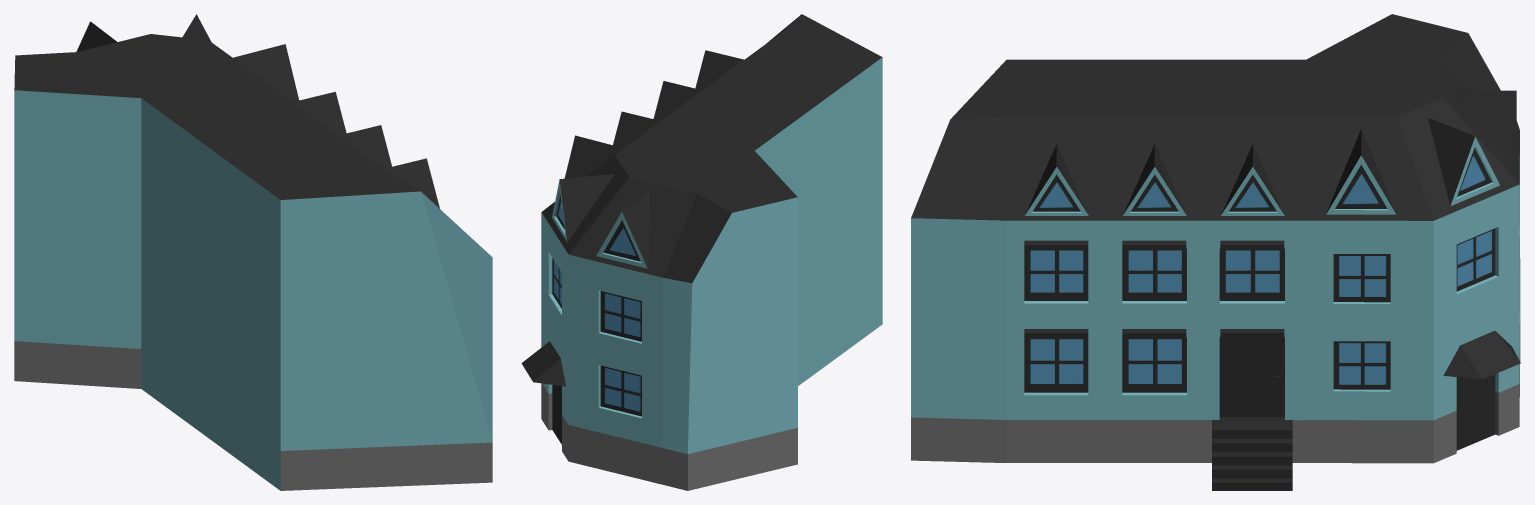
Rendered from NormalTriangleLongCornerBlue.obj.
3 views of the same model, side by side, from view 1: azimuth 30°, elevation 25°; view 2: azimuth 150°, elevation 25°; view 3: azimuth 270°, elevation 25° (orthographic). The views are drawn at different scales.
Visible parts, largest first — view 1: ZwyklyTrojkatnyDoubleRogNiebieski; view 2: ZwyklyTrojkatnyDoubleRogNiebieski; view 3: ZwyklyTrojkatnyDoubleRogNiebieski.
Boxes of the visible parts, x1=… form: ZwyklyTrojkatnyDoubleRogNiebieski: x1=14, y1=14, x2=492, y2=490; ZwyklyTrojkatnyDoubleRogNiebieski: x1=521, y1=14, x2=882, y2=490; ZwyklyTrojkatnyDoubleRogNiebieski: x1=911, y1=14, x2=1520, y2=490.
Bounding box in the file's own units: 9.06 × 8.07 × 14.25.
